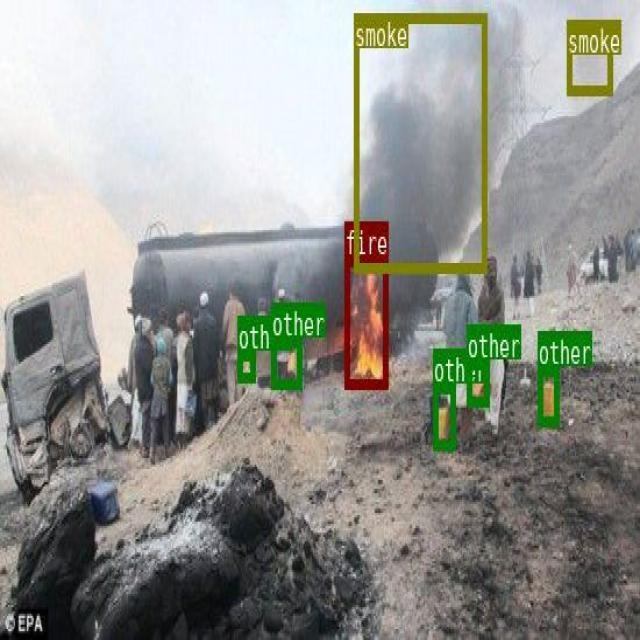fire: (344, 255, 387, 387)
smoke: (354, 12, 486, 271), (566, 19, 612, 93)
